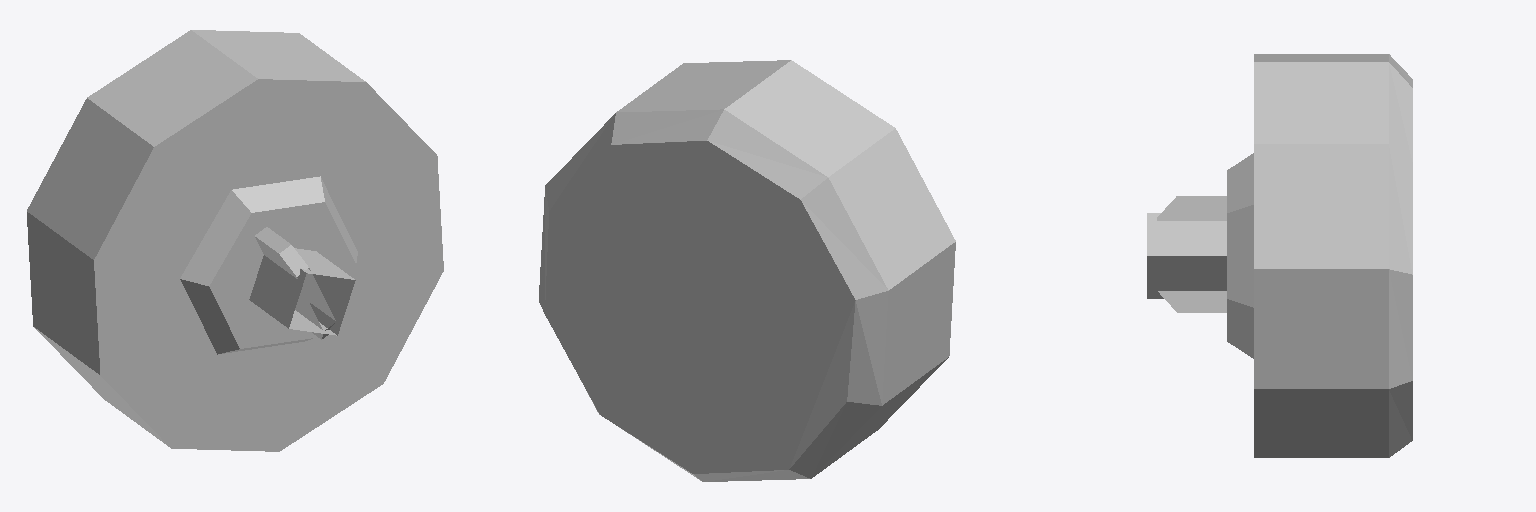
File: wheel187.obj
3 renders of one model, left to right at view 1: azimuth 30°, elevation 25°; view 2: azimuth 150°, elevation 25°; view 3: azimuth 270°, elevation 25°, orthographic.
Parts seen in each view (by area): view 1: wheel_low_textures; view 2: wheel_low_textures; view 3: wheel_low_textures.
Boxes of the visible parts, x1,y1,x2,y2 form: wheel_low_textures: [27, 30, 443, 451]; wheel_low_textures: [539, 60, 955, 481]; wheel_low_textures: [1147, 54, 1412, 457].
Bounding box in the file's own units: 1.51 × 1.56 × 0.9907.